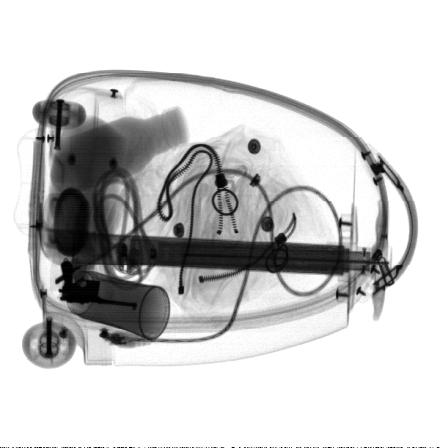Gun: (57, 260, 139, 312)
